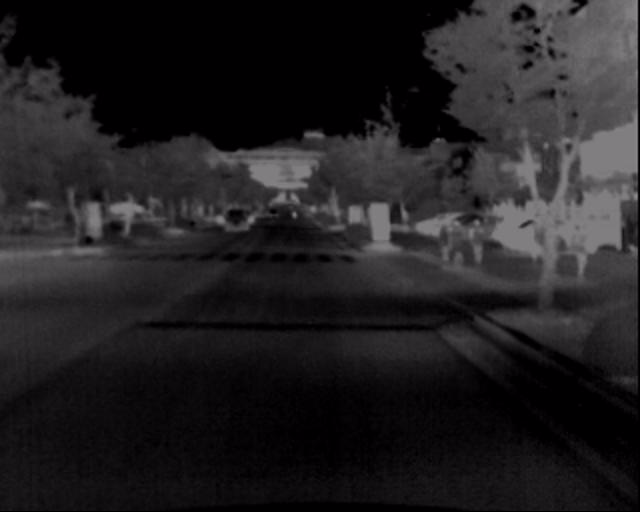person: (579, 216, 602, 282), (436, 213, 460, 273), (470, 212, 494, 272), (448, 215, 471, 276), (551, 220, 575, 278), (534, 210, 554, 263)
